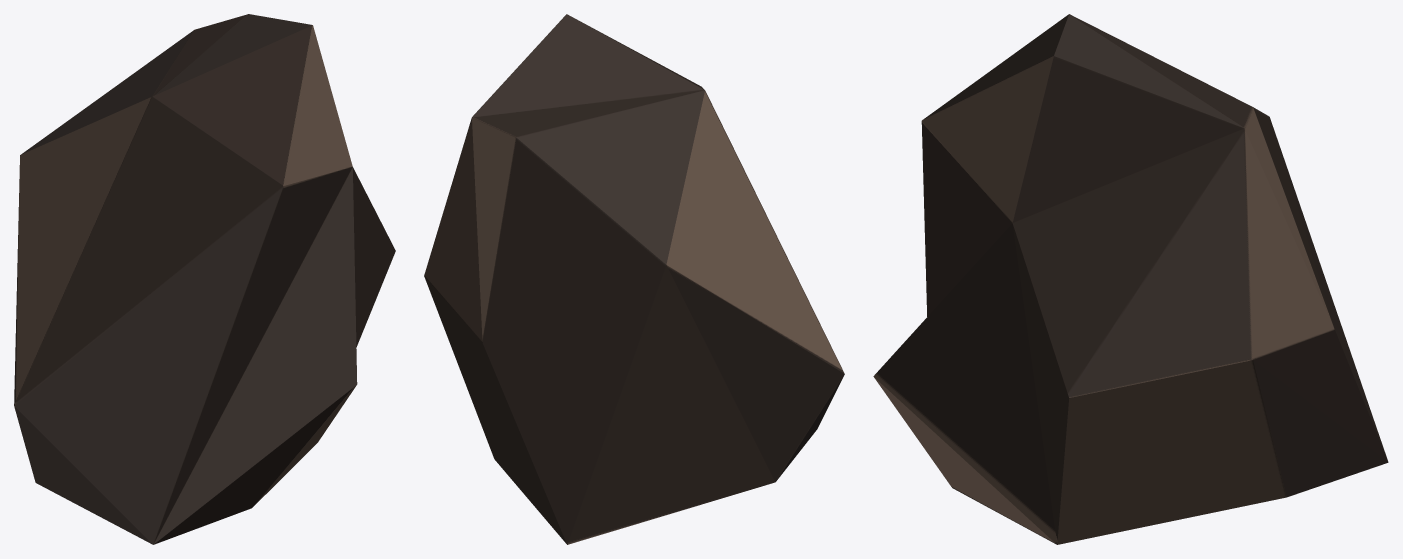
Rendered from Rock_Iteration_3.obj.
The picture shows the model from 3 angles, left to right: view 1: azimuth 30°, elevation 25°; view 2: azimuth 150°, elevation 25°; view 3: azimuth 270°, elevation 25°; orthographic projection. The views are drawn at different scales.
Visible parts, largest first — view 1: Sphere001; view 2: Sphere001; view 3: Sphere001.
Boxes of the visible parts, x1,y1,x2,y2 form: Sphere001: (14, 14, 395, 544); Sphere001: (424, 14, 844, 544); Sphere001: (873, 14, 1388, 544).
Bounding box in the file's own units: 111 × 118 × 111.
